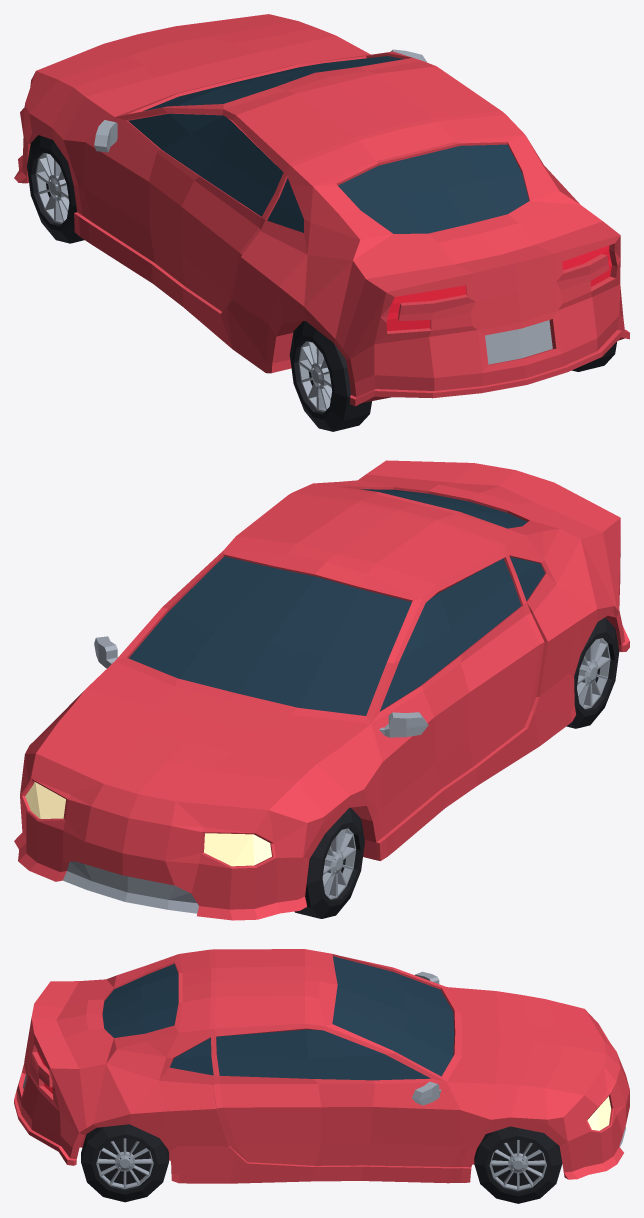
The model's file is coupe.glb.
3 renders of one model, top to bottom at view 1: azimuth 30°, elevation 25°; view 2: azimuth 150°, elevation 25°; view 3: azimuth 270°, elevation 25°, orthographic. The views are drawn at different scales.
Parts seen in each view (by area): view 1: SportsCar2_Cube.006 (×4), SportsCar2_BackWheels_Cylinder.002 (×2), SportsCar2_FrontLeftWheel_Cylinder.017 (×2); view 2: SportsCar2_Cube.006 (×4), SportsCar2_FrontLeftWheel_Cylinder.017 (×2), SportsCar2_BackWheels_Cylinder.002 (×2); view 3: SportsCar2_Cube.006 (×4), SportsCar2_BackWheels_Cylinder.002 (×2), SportsCar2_FrontRightWheel_Cylinder.018 (×2).
Boxes of the visible parts, x1,y1,x2,y2 form: SportsCar2_Cube.006 (×4): (14,14,629,406); SportsCar2_BackWheels_Cylinder.002 (×2): (289,321,617,431); SportsCar2_FrontLeftWheel_Cylinder.017 (×2): (27,135,84,243); SportsCar2_Cube.006 (×4): (14,460,629,920); SportsCar2_FrontLeftWheel_Cylinder.017 (×2): (294,807,364,918); SportsCar2_BackWheels_Cylinder.002 (×2): (566,617,619,728); SportsCar2_Cube.006 (×4): (14,949,629,1183); SportsCar2_BackWheels_Cylinder.002 (×2): (81,1124,168,1202); SportsCar2_FrontRightWheel_Cylinder.018 (×2): (474,1126,562,1203).
Size of the model in its own units: 2.14 by 1.38 by 4.5.
